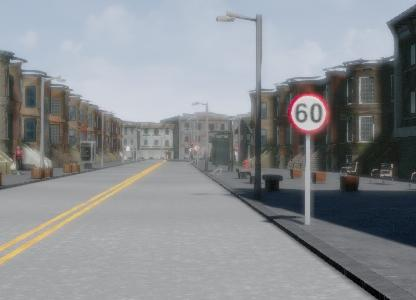Speed_60: (278, 86, 325, 138)
